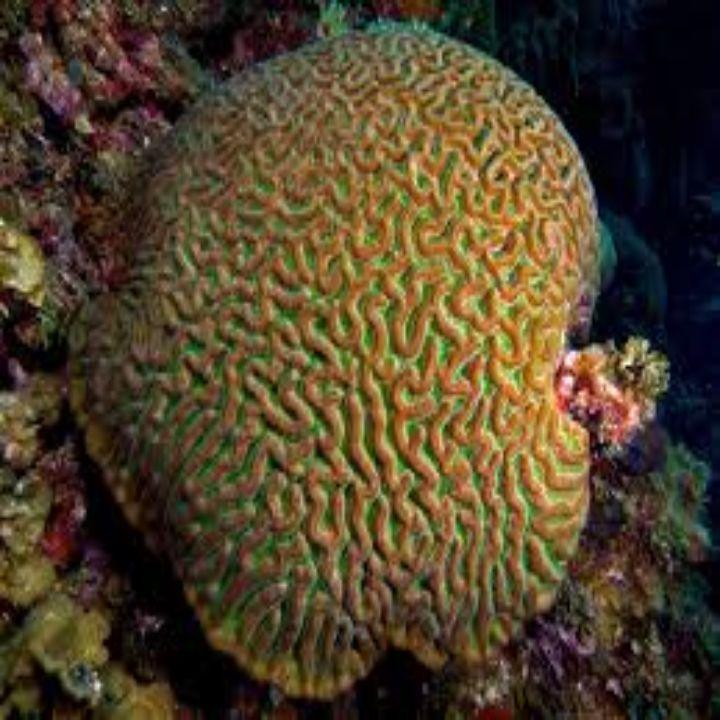Healthy Coral: (72, 27, 654, 670)
